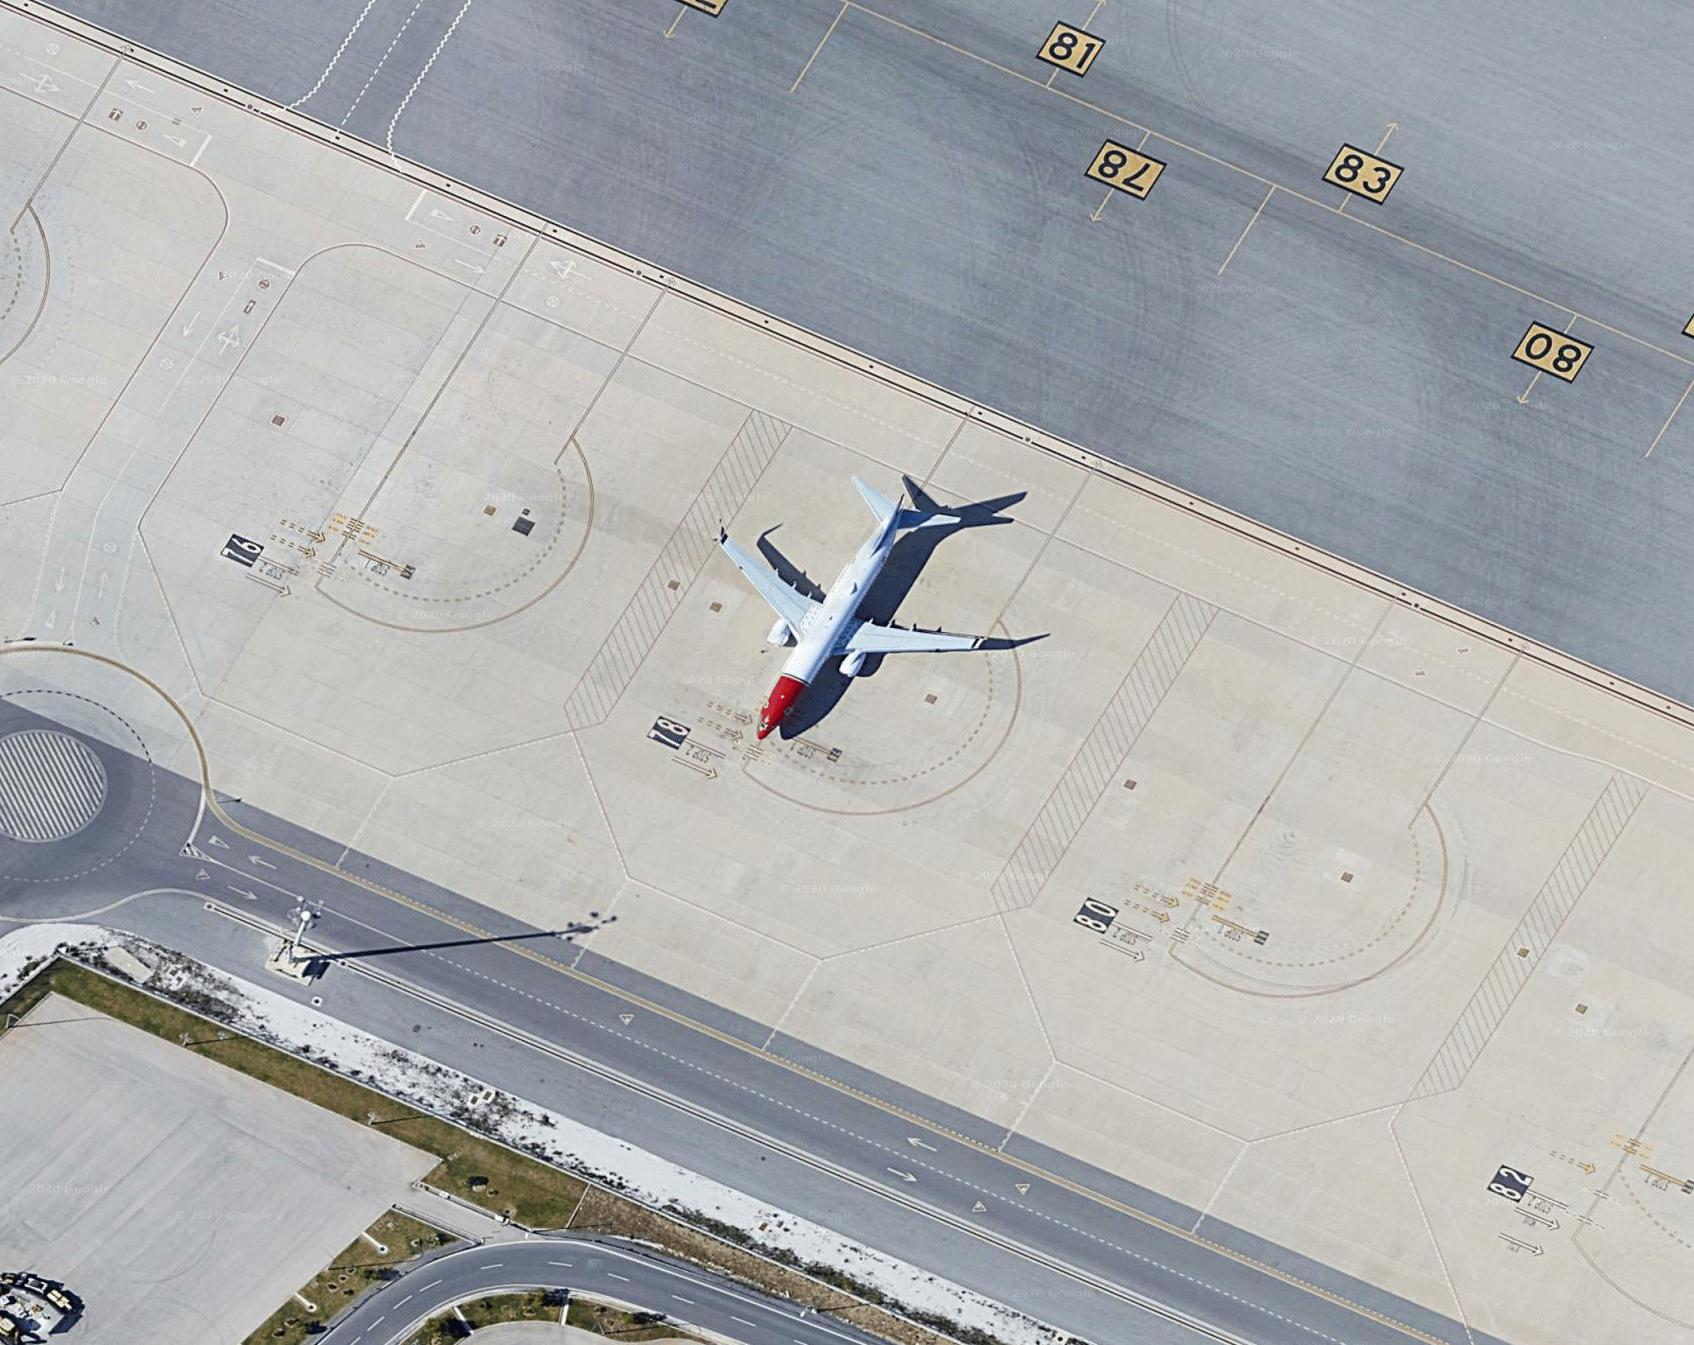plane: (675, 463, 1000, 754)
